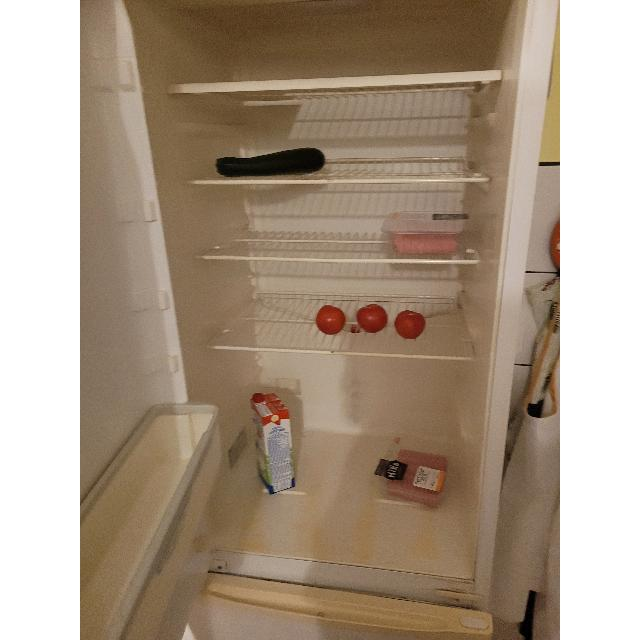meat: (386, 448, 448, 508), (382, 222, 461, 252)
milk: (252, 392, 294, 496)
tomato: (394, 308, 426, 339), (356, 304, 388, 334), (316, 304, 346, 336)
zucchini: (215, 145, 327, 177)
